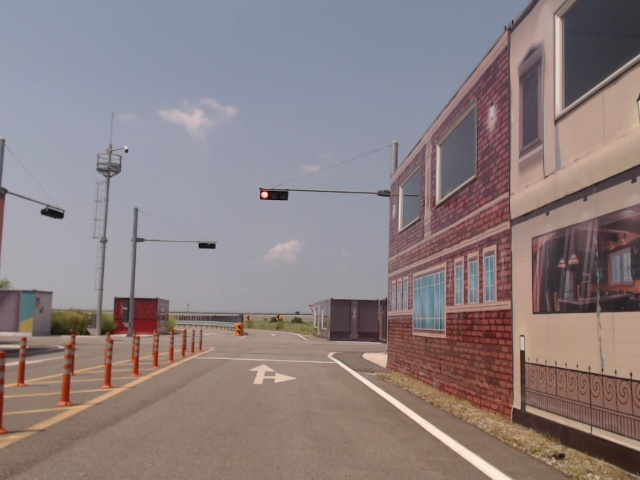red_3: (261, 191, 288, 200)
